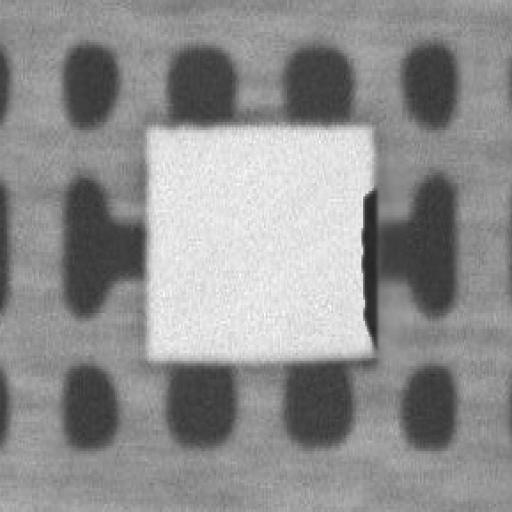DIE_BROKEN: (353, 172, 379, 345)
